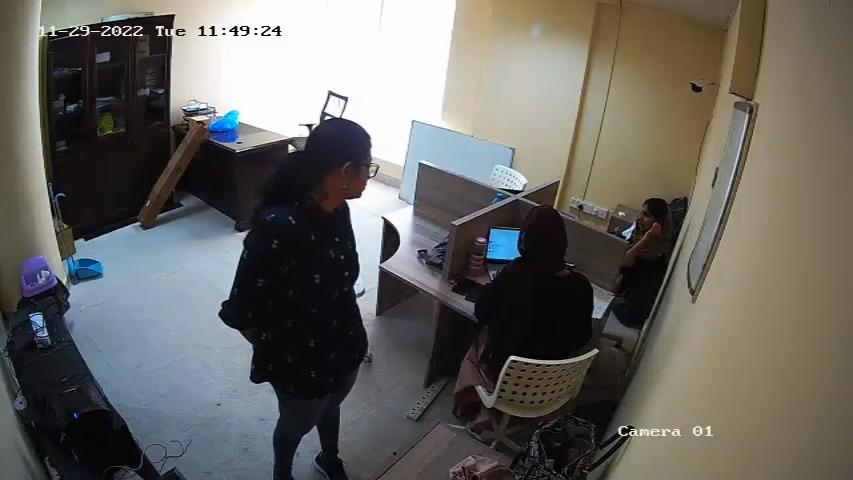no_apron: (275, 212, 368, 393)
